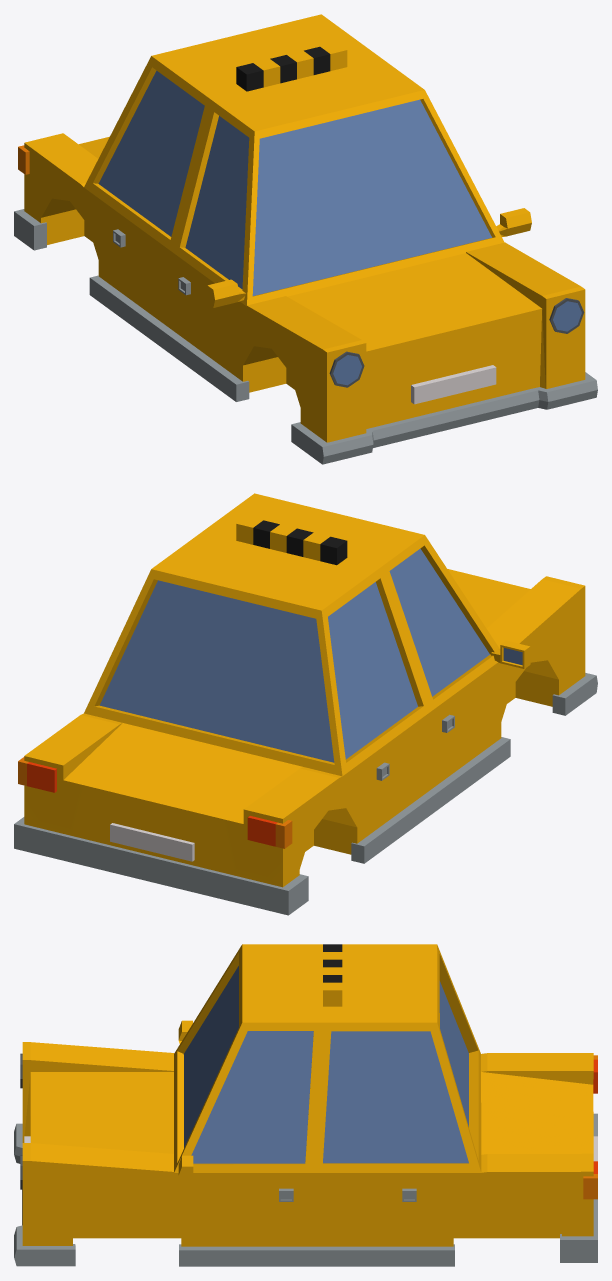
File: Car_08.fbx
3 renders of one model, top to bottom at view 1: azimuth 30°, elevation 25°; view 2: azimuth 150°, elevation 25°; view 3: azimuth 270°, elevation 25°, orthographic. The views are drawn at different scales.
Visible parts, largest first — view 1: Car_08; view 2: Car_08; view 3: Car_08.
Part boxes in pixels (x1,y1,x2,y2): Car_08: (14,14,597,464); Car_08: (14,493,597,915); Car_08: (14,944,597,1266).
Size of the model in its own units: 4.02 by 3.04 by 6.81.
